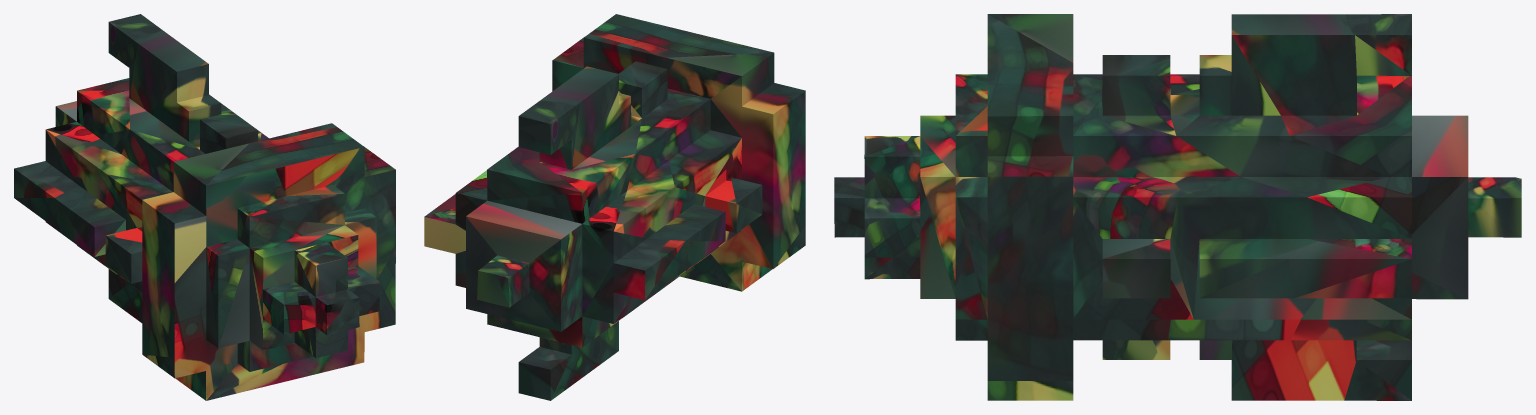
The picture shows the model from 3 angles, left to right: view 1: azimuth 30°, elevation 25°; view 2: azimuth 150°, elevation 25°; view 3: azimuth 270°, elevation 25°; orthographic projection. The views are drawn at different scales.
Bounding box in the file's own units: 0.4295 × 0.5144 × 0.8749.
